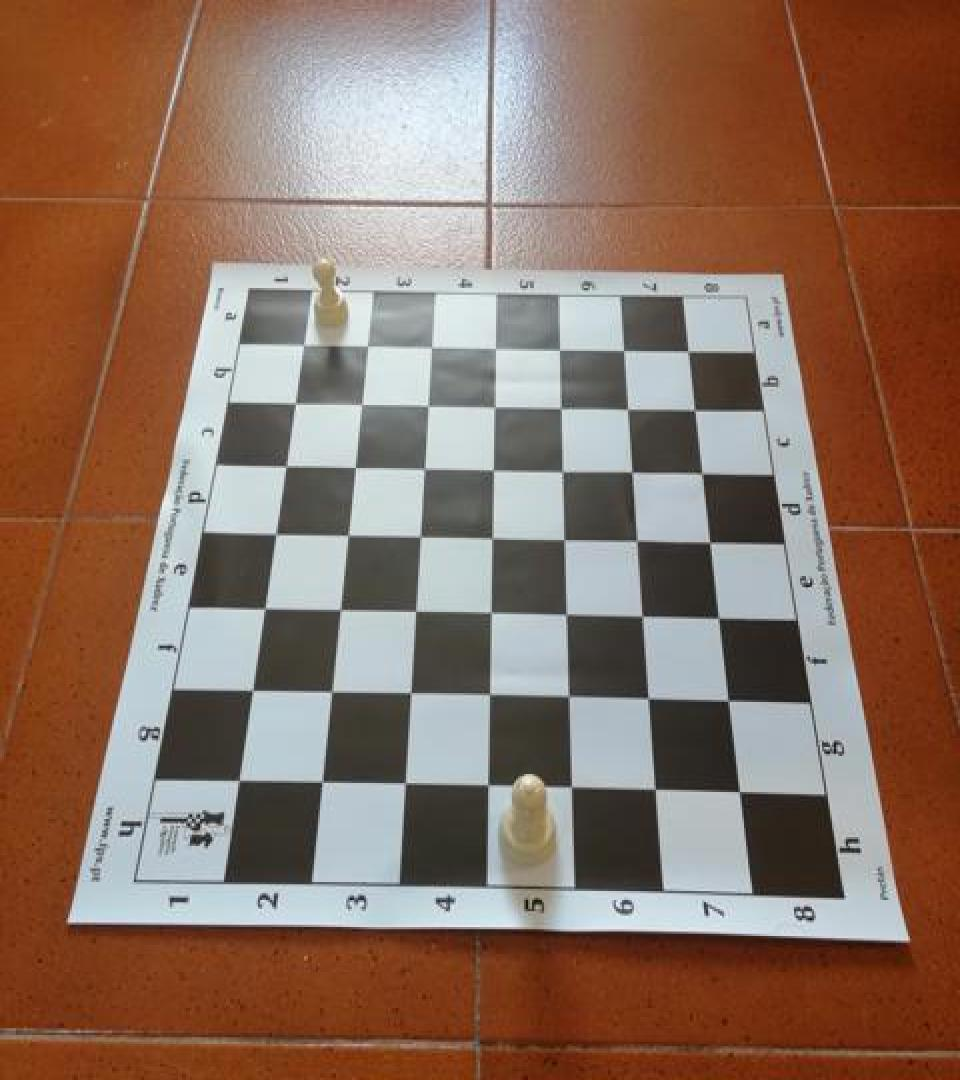xcorner: (675, 335, 705, 369), (611, 334, 641, 368), (547, 332, 577, 366), (483, 330, 513, 364), (354, 327, 384, 361), (290, 325, 320, 359), (682, 395, 712, 429), (615, 392, 645, 426), (548, 392, 578, 426), (482, 389, 512, 423), (415, 388, 445, 422), (348, 386, 378, 420), (281, 384, 311, 418), (689, 459, 719, 493), (550, 454, 580, 488), (481, 453, 511, 487), (411, 451, 441, 485), (341, 450, 371, 484), (697, 528, 727, 562), (625, 526, 655, 560), (552, 524, 582, 558), (480, 522, 510, 556), (407, 521, 437, 555), (334, 518, 364, 552), (261, 516, 291, 550), (706, 604, 736, 638), (630, 602, 660, 636), (554, 600, 584, 634), (478, 598, 508, 632), (402, 596, 432, 630), (326, 594, 356, 628), (716, 687, 746, 721), (636, 685, 666, 719), (557, 683, 587, 717), (397, 680, 427, 714), (318, 677, 348, 711), (238, 675, 268, 709), (726, 778, 756, 812), (643, 776, 673, 810), (559, 774, 589, 808), (476, 773, 506, 807), (392, 770, 422, 804), (308, 768, 338, 802), (224, 766, 254, 800), (418, 329, 448, 362), (620, 457, 650, 490), (272, 448, 302, 481), (250, 592, 280, 625), (477, 681, 507, 714)
